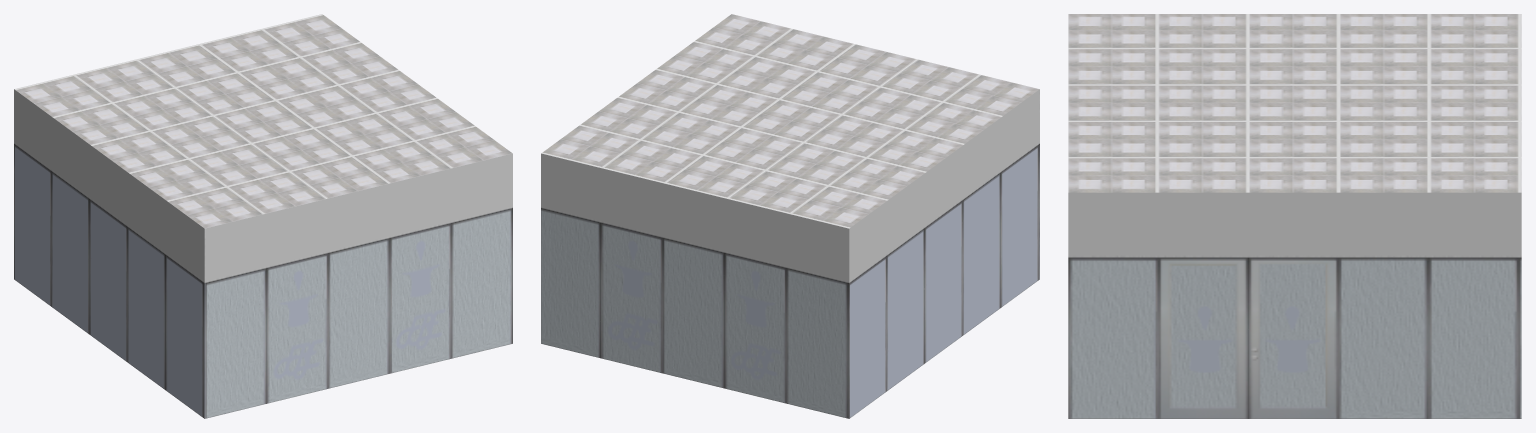
Rendered from room.fbx.
3 renders of one model, left to right at view 1: azimuth 30°, elevation 25°; view 2: azimuth 150°, elevation 25°; view 3: azimuth 270°, elevation 25°, orthographic. The views are drawn at different scales.
Visible parts, largest first — view 1: room; view 2: room; view 3: room.
Boxes of the visible parts, <box> form: room: <box>14,14,512,418</box>; room: <box>541,14,1039,418</box>; room: <box>1068,14,1521,418</box>.
Bounding box in the file's own units: 50.46 × 29.78 × 54.05.
